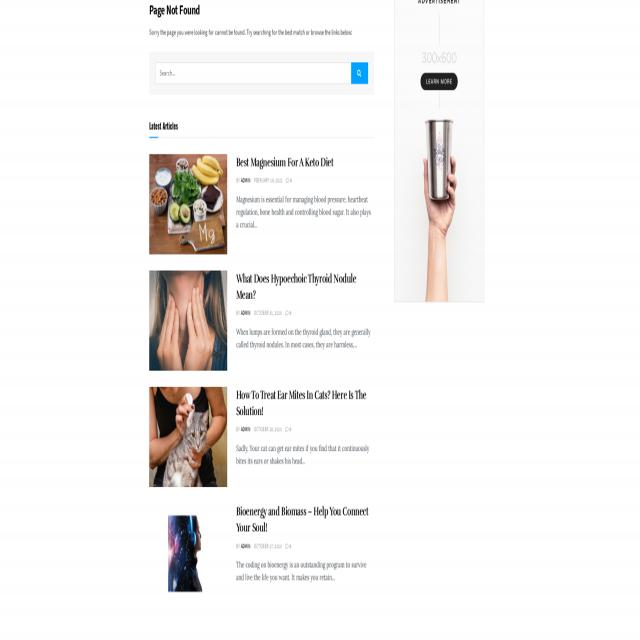button: (394, 0, 484, 302), (149, 153, 227, 254), (149, 270, 227, 371), (149, 387, 227, 488), (149, 510, 227, 597), (352, 62, 368, 84)
field: (155, 62, 368, 84)
